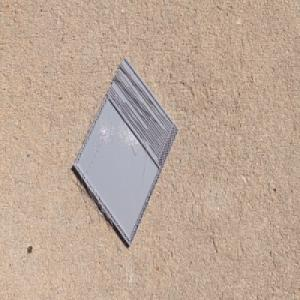PlasticPart: (72, 55, 179, 248)
